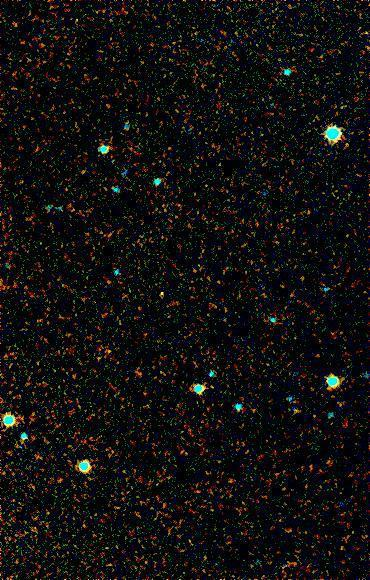star: (146, 277, 176, 307)
